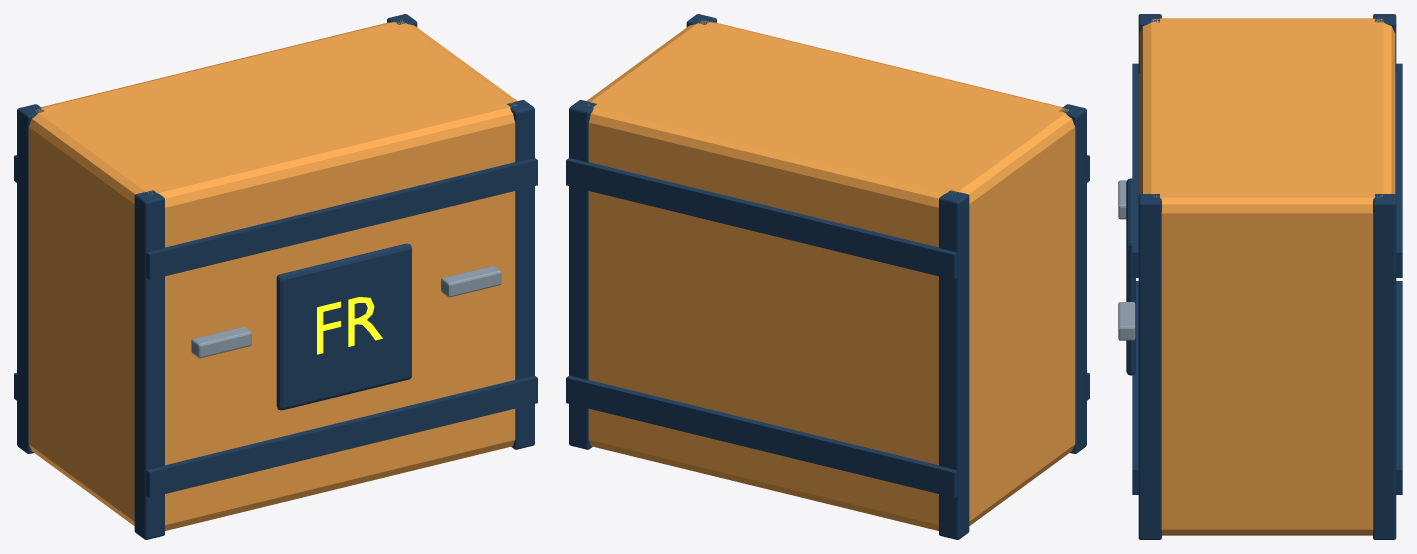
Rendered from maintenance_crate_a.glb.
The picture shows the model from 3 angles, left to right: view 1: azimuth 30°, elevation 25°; view 2: azimuth 150°, elevation 25°; view 3: azimuth 270°, elevation 25°; orthographic projection.
Parts seen in each view (by area): view 1: Maintenance_Crate_A_StaticMesh; view 2: Maintenance_Crate_A_StaticMesh; view 3: Maintenance_Crate_A_StaticMesh.
Boxes of the visible parts, left/top/right/bottom form: Maintenance_Crate_A_StaticMesh: left=14, top=14, right=537, bottom=539; Maintenance_Crate_A_StaticMesh: left=566, top=14, right=1089, bottom=539; Maintenance_Crate_A_StaticMesh: left=1118, top=14, right=1402, bottom=539.
Size of the model in its own units: 4.22 by 3.5 by 2.67.
